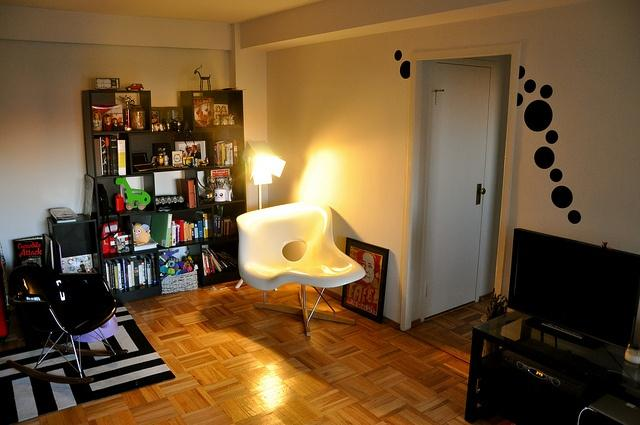AIO PC-Monitor-TV: (506, 226, 639, 349)
Rak: (80, 87, 247, 303)
